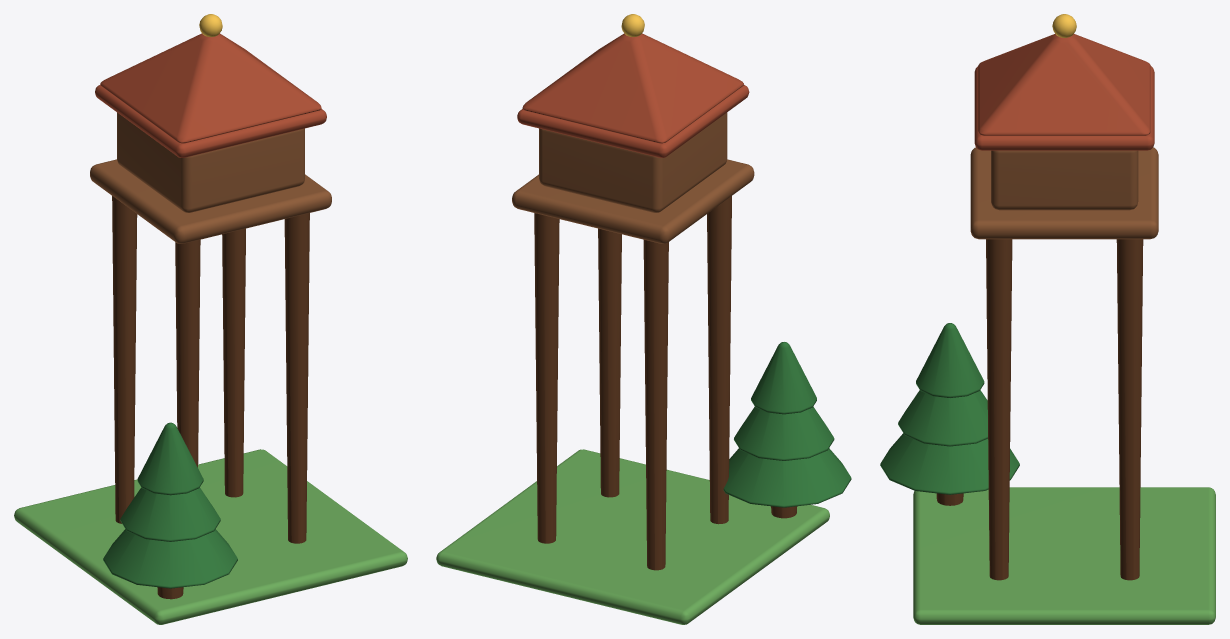
3 views of the same model, side by side, from view 1: azimuth 30°, elevation 25°; view 2: azimuth 150°, elevation 25°; view 3: azimuth 270°, elevation 25° (orthographic). The views are drawn at different scales.
Visible parts, largest first — view 1: Cube; view 2: Cube; view 3: Cube.
Boxes of the visible parts, bbox=[...] form: Cube: bbox=[14, 14, 407, 624]; Cube: bbox=[436, 14, 851, 624]; Cube: bbox=[880, 14, 1215, 624].
Bounding box in the file's own units: 0.8212 × 1.48 × 0.8212.
